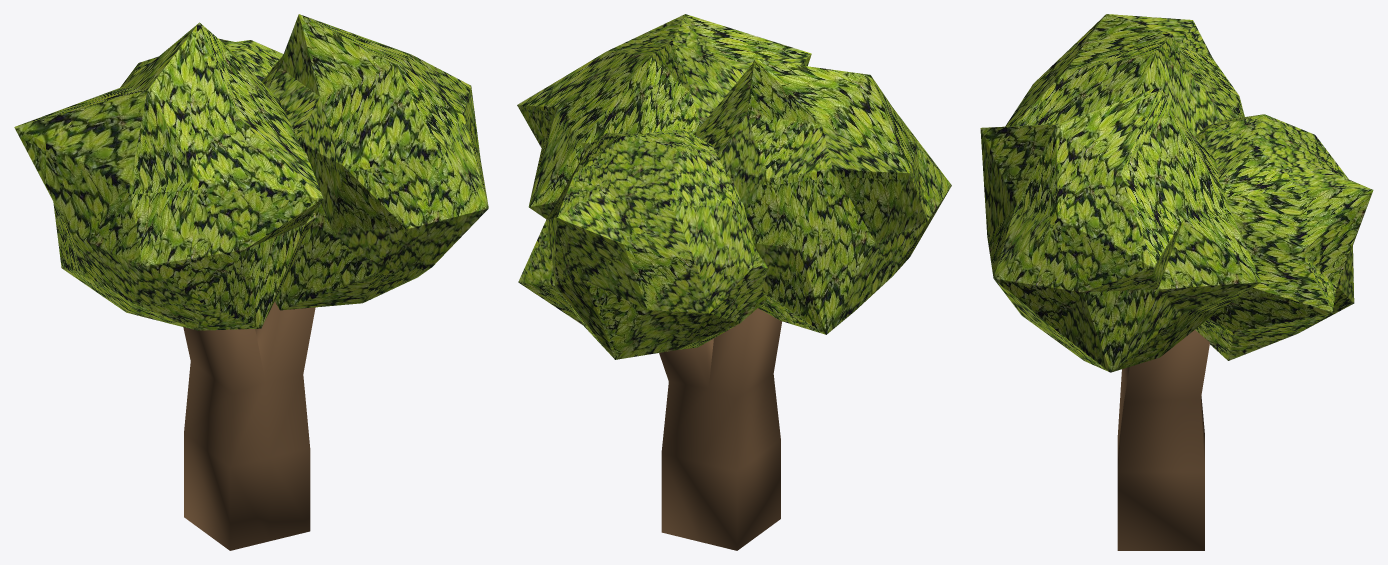
Rendered from tree.glb.
3 views of the same model, side by side, from view 1: azimuth 30°, elevation 25°; view 2: azimuth 150°, elevation 25°; view 3: azimuth 270°, elevation 25° (orthographic). The views are drawn at different scales.
Visible parts, largest first — view 1: Icosphere, Icosphere.001, Cube, Icosphere.002; view 2: Icosphere, Icosphere.002, Cube, Icosphere.001; view 3: Icosphere.001, Icosphere.002, Cube, Icosphere.
Part boxes in pixels (left/top/right/bottom): Icosphere: left=14, top=22, right=323, bottom=330; Icosphere.001: left=261, top=14, right=488, bottom=310; Cube: left=183, top=302, right=315, bottom=550; Icosphere.002: left=120, top=38, right=283, bottom=87; Icosphere: left=694, top=59, right=951, bottom=334; Icosphere.002: left=518, top=129, right=767, bottom=359; Cube: left=659, top=308, right=782, bottom=550; Icosphere.001: left=517, top=14, right=811, bottom=219; Icosphere.001: left=980, top=86, right=1261, bottom=372; Icosphere.002: left=1195, top=114, right=1373, bottom=360; Cube: left=1117, top=330, right=1209, bottom=550; Icosphere: left=1005, top=14, right=1244, bottom=135.
Bounding box in the file's own units: 4.93 × 5.49 × 4.08.
2 materials, 1 textured.
